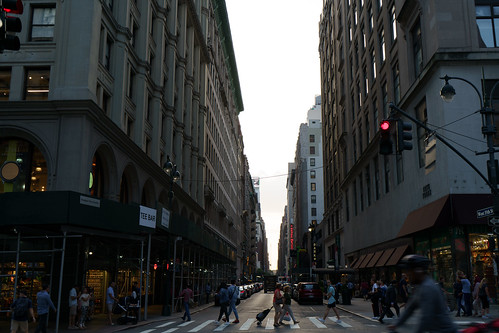building: (1, 1, 248, 289), (322, 1, 492, 276), (282, 100, 325, 264)
crosswalk: (135, 311, 381, 332)
